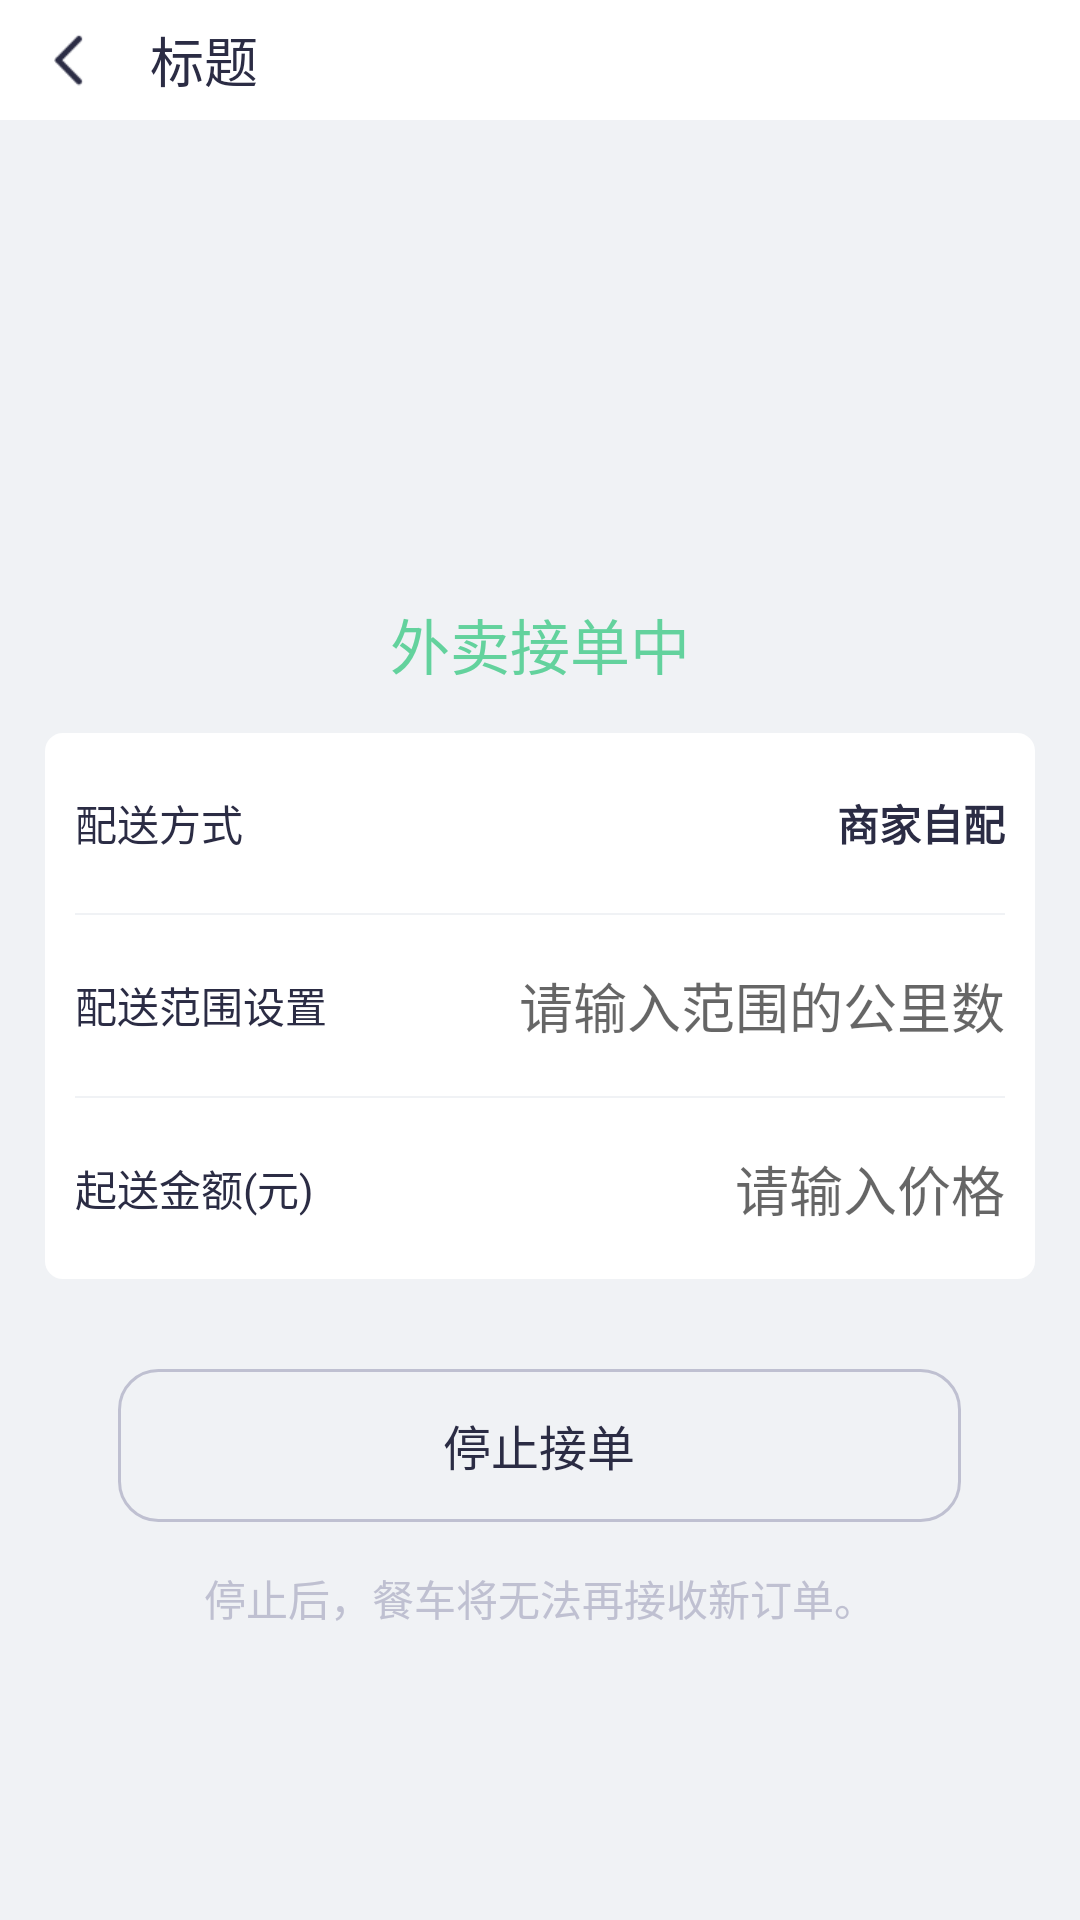

Where to tap for icons on this 1080px x 1920px app screen, as (x,y):
return: (68,60)
